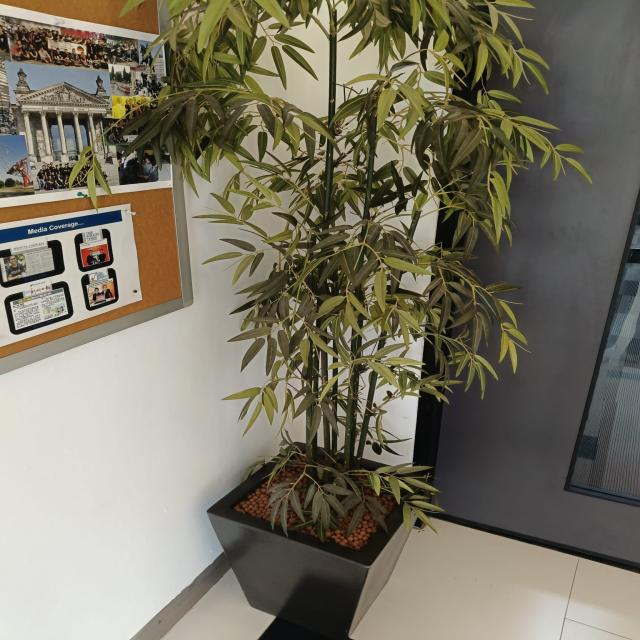Pot: (204, 437, 433, 639)
